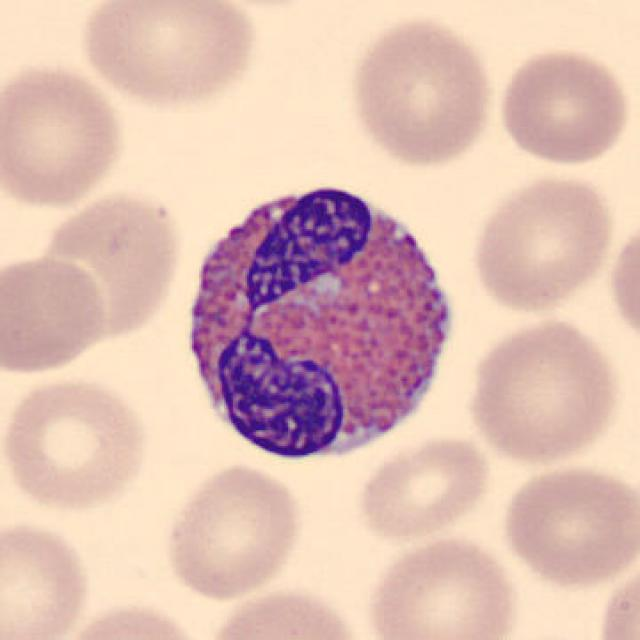Eosinophil: (172, 162, 468, 476)
RBC: (462, 312, 624, 467), (343, 11, 498, 171), (32, 187, 187, 345), (466, 170, 617, 318), (0, 372, 153, 515), (158, 458, 306, 603), (75, 0, 261, 111), (0, 58, 130, 212), (498, 460, 636, 591), (494, 44, 635, 168), (363, 530, 521, 640), (352, 430, 494, 545), (0, 249, 110, 379), (0, 516, 94, 640), (203, 582, 368, 640), (53, 597, 211, 640), (606, 213, 640, 353), (594, 553, 640, 640)
